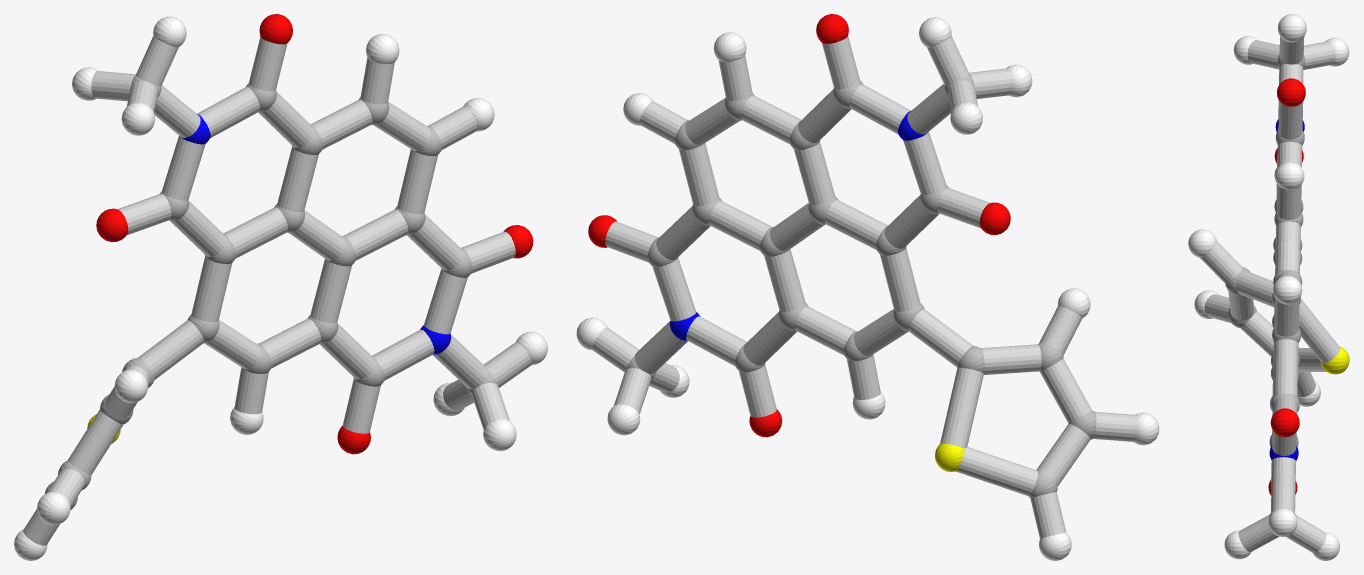
File: Dimethyl_Naphthalene_Dicarboximide_Phi_20_Theta_310_Thiophene.glb
The picture shows the model from 3 angles, left to right: view 1: azimuth 30°, elevation 25°; view 2: azimuth 150°, elevation 25°; view 3: azimuth 270°, elevation 25°; orthographic projection. The views are drawn at different scales.
Parts seen in each view (by area): view 1: grp14119, grp7241, grp1, grp12309, grp11585; view 2: grp14119, grp7241, grp1, grp12309, grp11585; view 3: grp14119, grp7241, grp1, grp12309, grp13757, grp11585.
Boxes of the visible parts, x1,y1,x2,y2 form: grp14119: (23,36,532,545); grp7241: (14,16,547,560); grp1: (45,75,497,509); grp12309: (96,14,533,454); grp11585: (180,114,451,354); grp14119: (592,36,1137,538); grp7241: (576,17,1159,560); grp1: (626,74,1096,497); grp12309: (588,14,1010,437); grp11585: (669,111,927,340); grp14119: (1200,36,1340,553); grp7241: (1188,14,1349,560); grp1: (1225,54,1304,516); grp12309: (1268,78,1305,495); grp13757: (1320,346,1349,374); grp11585: (1269,119,1304,460).
Size of the model in its own units: 11.32 by 10.15 by 3.33.
